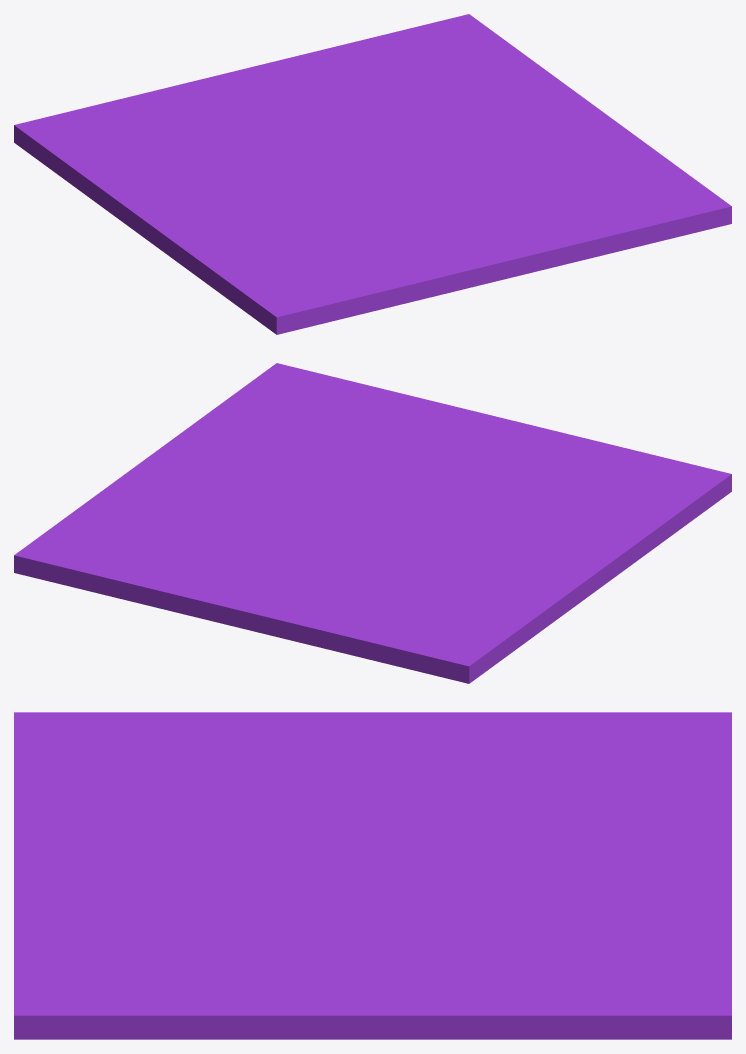
Rendered from Platform_9_chunks.fbx.
The picture shows the model from 3 angles, top to bottom: view 1: azimuth 30°, elevation 25°; view 2: azimuth 150°, elevation 25°; view 3: azimuth 270°, elevation 25°; orthographic projection. The views are drawn at different scales.
Visible parts, largest first — view 1: Platform_9_8, Platform_9_10, Platform_9_13, Platform_9_1, Platform_9_14, Platform_9_11, Platform_9_18, Platform_9_9, Platform_9_2, Platform_9_16, Platform_9_0, Platform_9_17 (+3 smaller); view 2: Platform_9_8, Platform_9_10, Platform_9_13, Platform_9_1, Platform_9_14, Platform_9_18, Platform_9_16, Platform_9_9, Platform_9_2, Platform_9_11, Platform_9_0, Platform_9_17 (+1 smaller); view 3: Platform_9_8, Platform_9_1, Platform_9_13, Platform_9_10, Platform_9_14, Platform_9_18, Platform_9_9, Platform_9_2, Platform_9_11, Platform_9_4, Platform_9_16, Platform_9_0 (+2 smaller).
Boxes of the visible parts, box(x1,y1,x2,y2) form: Platform_9_8: box(14, 98, 261, 243); Platform_9_10: box(152, 201, 385, 334); Platform_9_13: box(427, 133, 731, 216); Platform_9_1: box(422, 14, 616, 140); Platform_9_14: box(367, 155, 504, 297); Platform_9_11: box(434, 213, 703, 283); Platform_9_18: box(123, 60, 325, 133); Platform_9_9: box(257, 136, 370, 229); Platform_9_2: box(268, 111, 511, 164); Platform_9_16: box(280, 31, 398, 93); Platform_9_0: box(392, 18, 451, 112); Platform_9_17: box(252, 93, 393, 137); Platform_9_8: box(359, 539, 608, 683); Platform_9_10: box(503, 450, 731, 581); Platform_9_13: box(214, 363, 411, 500); Platform_9_1: box(14, 447, 252, 583); Platform_9_14: box(324, 440, 633, 517); Platform_9_18: box(203, 568, 367, 655); Platform_9_16: box(58, 543, 246, 620); Platform_9_9: box(368, 483, 506, 570); Platform_9_2: box(239, 476, 372, 566); Platform_9_11: box(305, 370, 573, 440); Platform_9_0: box(31, 523, 251, 579); Platform_9_17: box(215, 535, 367, 575); Platform_9_8: box(352, 712, 731, 828); Platform_9_1: box(326, 925, 731, 1039); Platform_9_13: box(14, 895, 366, 1017); Platform_9_10: box(14, 712, 354, 818); Platform_9_14: box(14, 777, 380, 898); Platform_9_18: box(546, 784, 731, 890); Platform_9_9: box(195, 782, 531, 861); Platform_9_2: box(347, 830, 523, 950); Platform_9_11: box(14, 817, 139, 996); Platform_9_4: box(14, 979, 342, 1039); Platform_9_16: box(560, 889, 731, 968); Platform_9_0: box(490, 911, 731, 1004).
Bounding box in the file's own units: 810 × 29.87 × 810.
